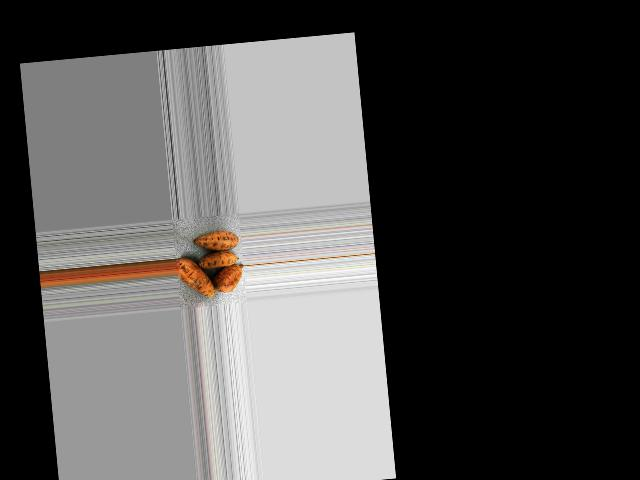sweet_potato: (174, 250, 215, 304)
